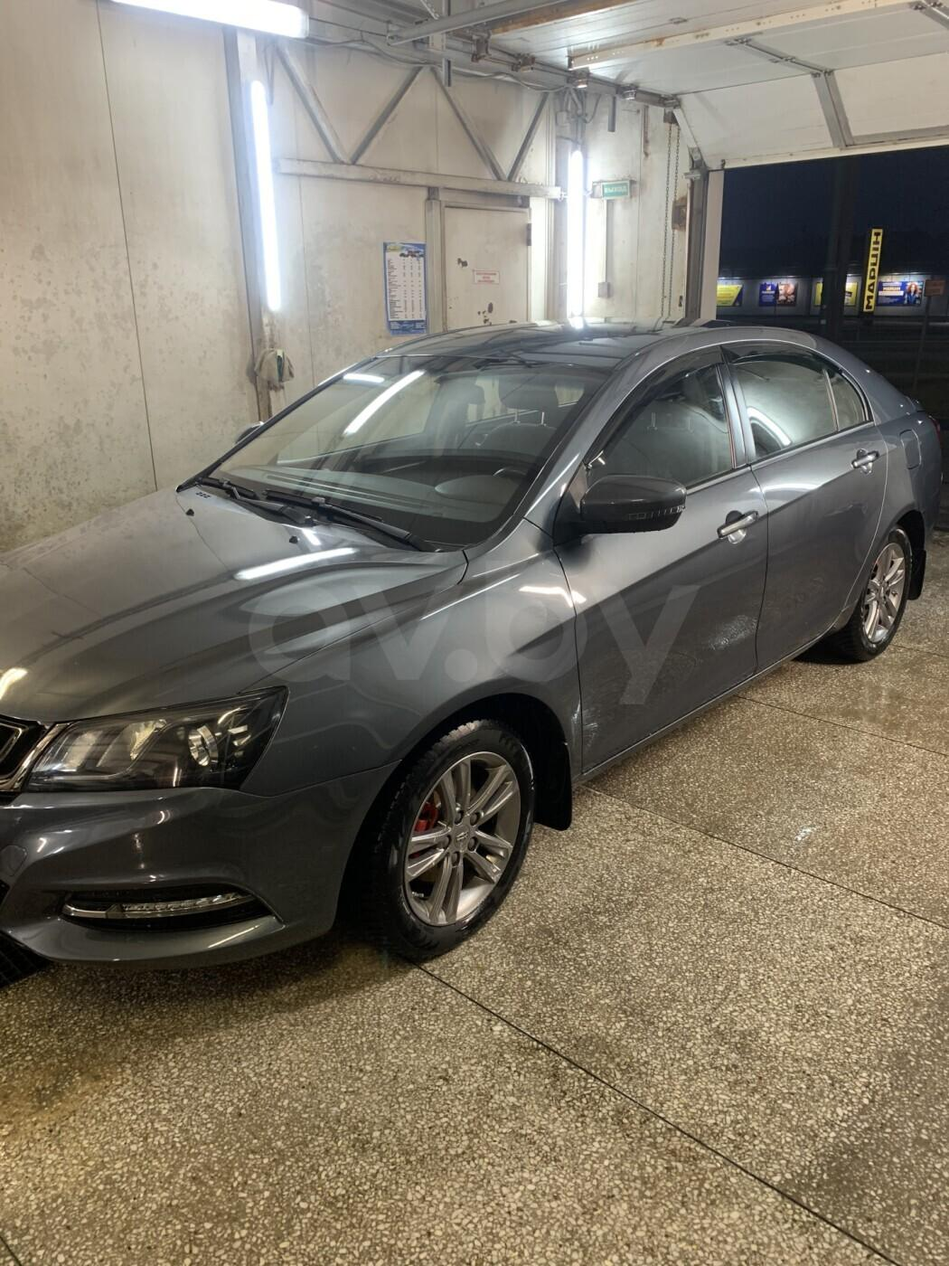Emgrand_2019-2021: (0, 317, 941, 966)
